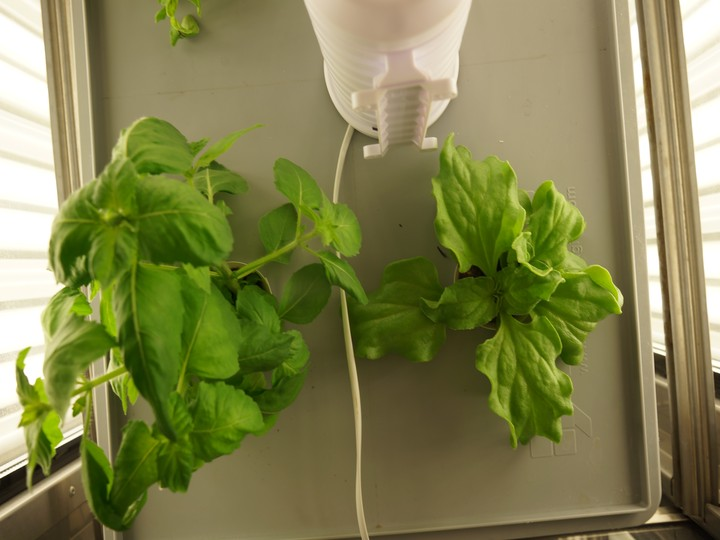basilic_blue_spice: (9, 111, 362, 540)
ficoide_glaciale: (365, 133, 628, 448)
